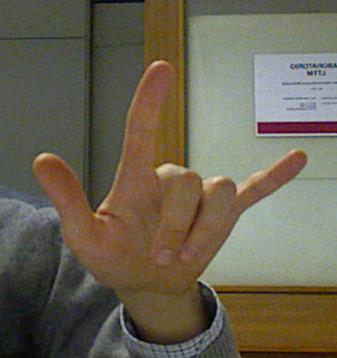back: (27, 48, 310, 299)
